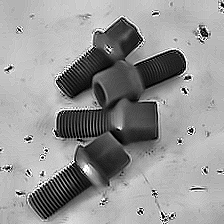holes: (1, 127, 51, 200), (137, 185, 177, 224), (188, 164, 224, 197), (175, 123, 200, 148), (193, 22, 215, 46), (179, 73, 196, 99), (2, 62, 17, 78), (13, 23, 27, 35), (213, 1, 224, 15), (97, 198, 108, 208), (150, 9, 162, 17)
